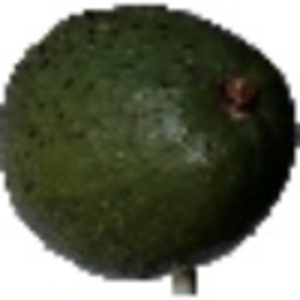abacate: (2, 3, 299, 282)
